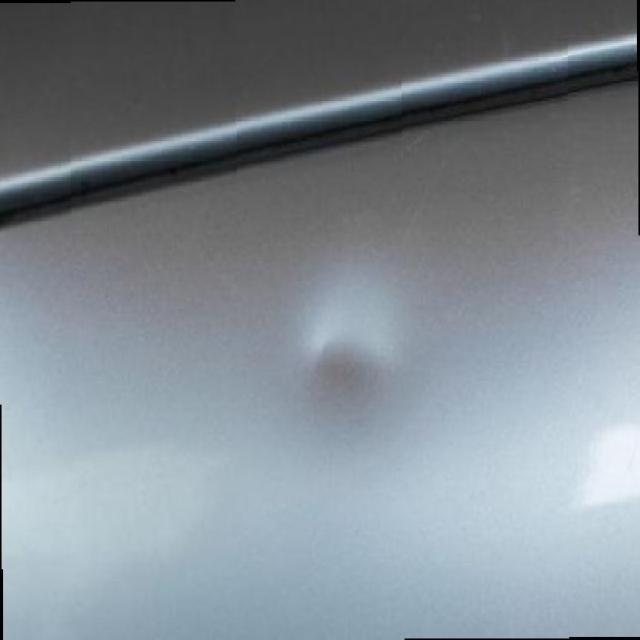dent: (284, 320, 432, 457)
